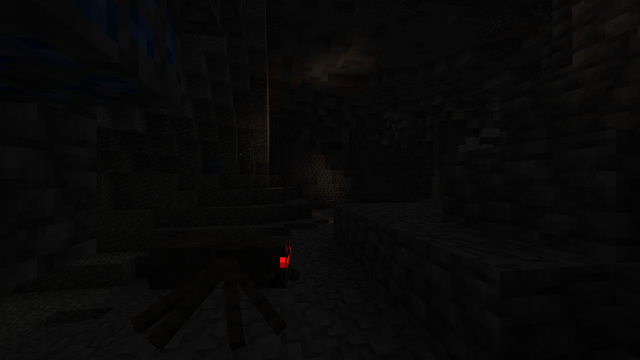araignees: (151, 224, 292, 342)
